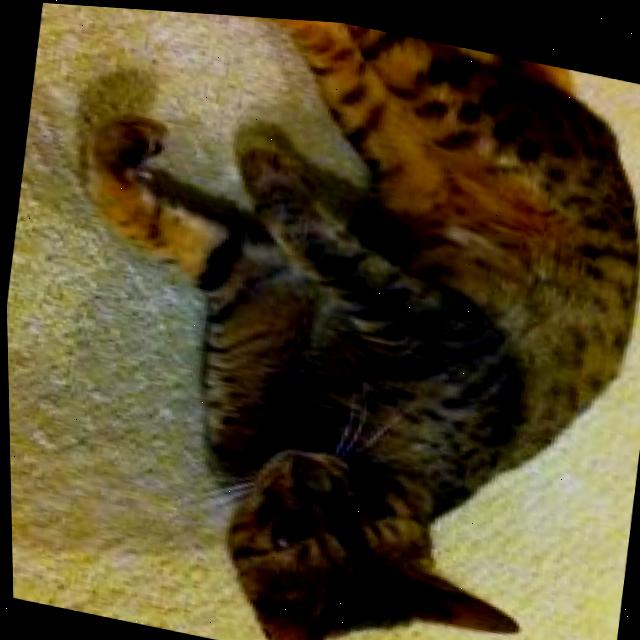Bengal: (12, 1, 640, 640)
